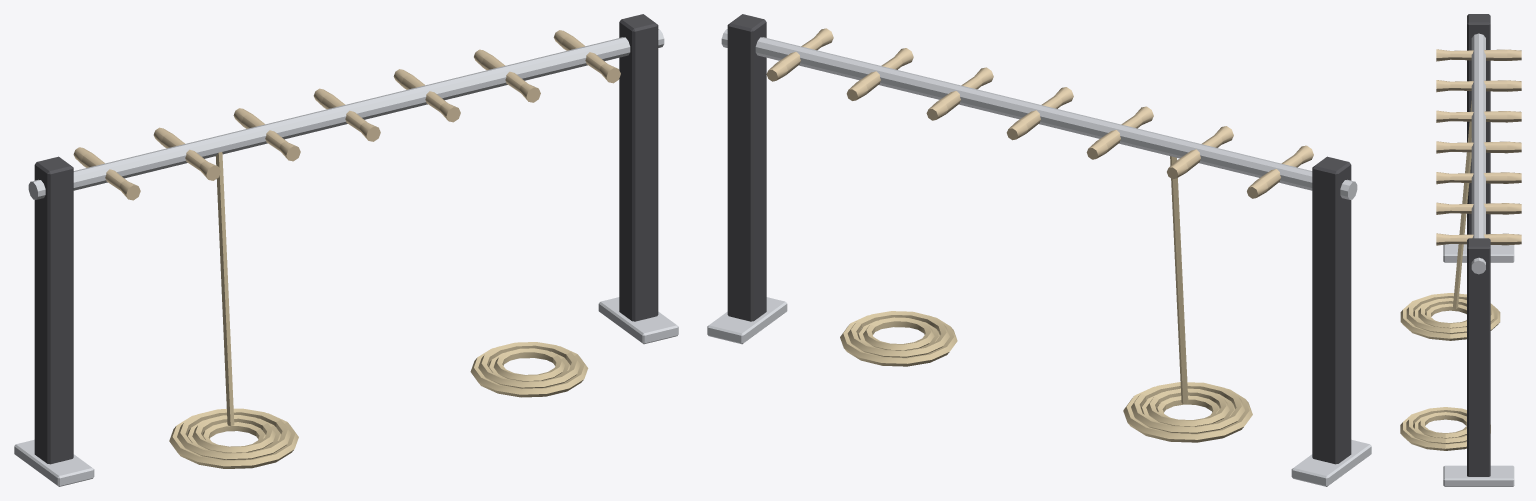
File: theatre-stage-and-backstage-pin-rail-40ffb613__35884.glb
3 renders of one model, left to right at view 1: azimuth 30°, elevation 25°; view 2: azimuth 150°, elevation 25°; view 3: azimuth 270°, elevation 25°, orthographic. The views are drawn at different scales.
Visible parts, largest first — view 1: pin-rail; view 2: pin-rail; view 3: pin-rail.
Boxes of the visible parts, x1,y1,x2,y2 form: pin-rail: (14, 14, 678, 486); pin-rail: (707, 14, 1371, 486); pin-rail: (1400, 14, 1521, 486).
Bounding box in the file's own units: 2.4 × 1.12 × 0.5111.
